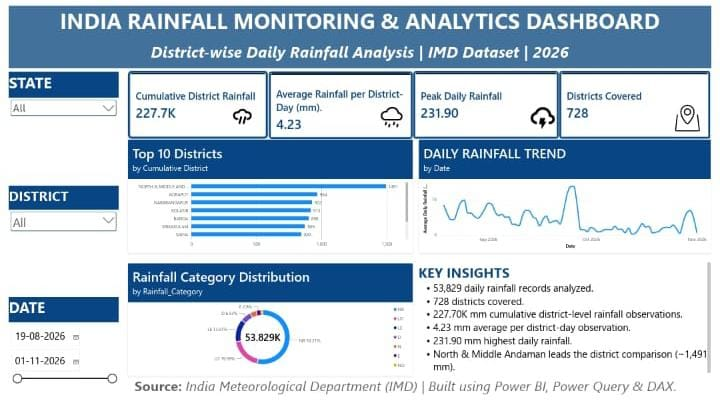

The page's visual inventory and layout, read from the dashboard file:
{"tool":"powerbi","page":{"name":"Page 1","canvas":[1920,1080],"ordinal":0},"visuals":[{"type":"cardVisual","title":"Cumulative District Rainfall","fields":{"Data":["RainfallData.Total Actual Rainfall"]},"box":[325.3,176.9,384.3,187.8],"z":0},{"type":"cardVisual","title":"Average Daily Rainfall","fields":{"Data":["RainfallData.Average Actual Rainfall"]},"box":[710,177.5,395.2,187.8],"z":1000},{"type":"cardVisual","fields":{"Data":["RainfallData.Highest Daily Rainfall"]},"box":[1104.8,176.9,399.6,187.8],"z":2000},{"type":"cardVisual","fields":{"Data":["RainfallData.District Count"]},"box":[1504.3,176.9,414.8,187.8],"z":3000},{"type":"clusteredBarChart","title":"Top 10 Districts","fields":{"Category":["RainfallData.District"],"Y":["RainfallData.Total Actual Rainfall"]},"box":[325.3,364.6,779.5,312.2],"z":4000},{"type":"lineChart","title":"DAILY RAINFALL TREND","fields":{"Category":["RainfallData.Date"],"Y":["RainfallData.Average Actual Rainfall"]},"box":[1120.1,364.6,800,312.5],"z":5000},{"type":"donutChart","title":"Rainfall Category Distribution","fields":{"Category":["RainfallData.Rainfall_Category"],"Y":["CountNonNull(RainfallData.Rainfall_Category)"]},"box":[325.3,703,779.5,310],"z":6000},{"type":"slicer","title":"STATE","fields":{"Values":["RainfallData.State"]},"box":[0,181.2,299.1,294.8],"z":7000},{"type":"slicer","title":"DISTRICT","fields":{"Values":["RainfallData.District"]},"box":[0,493.4,299.1,279.5],"z":8000},{"type":"slicer","title":"DATE","fields":{"Values":["RainfallData.Date"]},"box":[0,796.9,299.1,264.2],"z":9000},{"type":"textbox","box":[0,0,1919.2,170.3],"z":10000},{"type":"textbox","box":[1120.1,703,799.1,310],"z":11000},{"type":"textbox","box":[250,1012.5,1670,67.5],"z":12000},{"type":"image","box":[489.1,275.1,299.1,54.6],"z":20000},{"type":"image","box":[1004.3,272.9,85.2,59],"z":20001},{"type":"image","box":[1417,264.2,85.2,78.6],"z":20002},{"type":"image","box":[1790.3,270.7,128.8,72.1],"z":20003}]}

Visuals, with their boxes in screenshot pixels (x1, y1, x2, y2), scaled from the page's 1920x1080 canvas onto the 720x407 screenshot:
"Cumulative District Rainfall" cardVisual: pyautogui.locateOnScreen(122, 67, 266, 137)
"Average Daily Rainfall" cardVisual: pyautogui.locateOnScreen(266, 67, 414, 138)
cardVisual - RainfallData.Highest Daily Rainfall: pyautogui.locateOnScreen(414, 67, 564, 137)
cardVisual - RainfallData.District Count: pyautogui.locateOnScreen(564, 67, 719, 137)
"Top 10 Districts" clusteredBarChart: pyautogui.locateOnScreen(122, 137, 414, 255)
"DAILY RAINFALL TREND" lineChart: pyautogui.locateOnScreen(420, 137, 719, 255)
"Rainfall Category Distribution" donutChart: pyautogui.locateOnScreen(122, 265, 414, 382)
"STATE" slicer: pyautogui.locateOnScreen(0, 68, 112, 179)
"DISTRICT" slicer: pyautogui.locateOnScreen(0, 186, 112, 291)
"DATE" slicer: pyautogui.locateOnScreen(0, 300, 112, 400)
textbox: pyautogui.locateOnScreen(0, 0, 719, 64)
textbox: pyautogui.locateOnScreen(420, 265, 719, 382)
textbox: pyautogui.locateOnScreen(94, 382, 719, 406)
image: pyautogui.locateOnScreen(183, 104, 296, 124)
image: pyautogui.locateOnScreen(377, 103, 409, 125)
image: pyautogui.locateOnScreen(531, 100, 563, 129)
image: pyautogui.locateOnScreen(671, 102, 719, 129)
